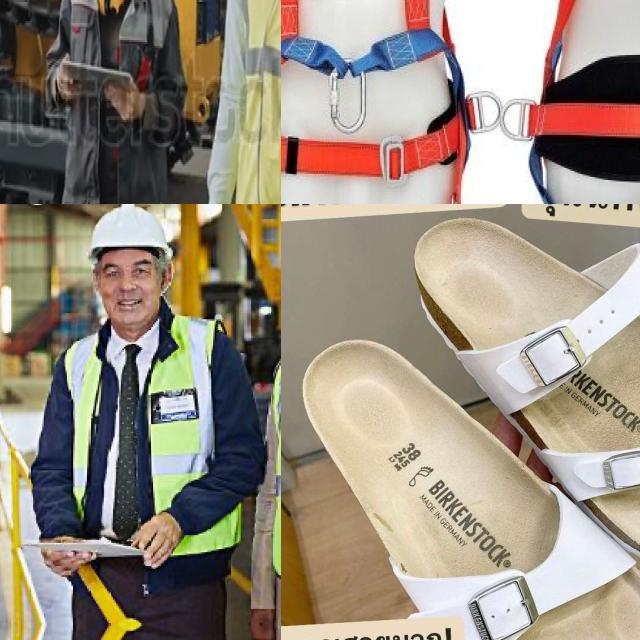Ear-protection: (94, 0, 132, 24)
Harness: (281, 0, 473, 204), (525, 0, 640, 204)
No_Ear-Protection: (160, 261, 174, 296), (92, 263, 100, 290)
No_Glasses: (100, 258, 157, 282)
Sandals: (288, 321, 640, 640), (392, 204, 640, 594)
face_nomask: (102, 281, 161, 325)
hand_noglove: (131, 512, 182, 568), (41, 550, 95, 577)
head_helmet: (89, 204, 168, 260)
person: (40, 0, 189, 204), (196, 0, 281, 204)
vest: (227, 0, 281, 204)
